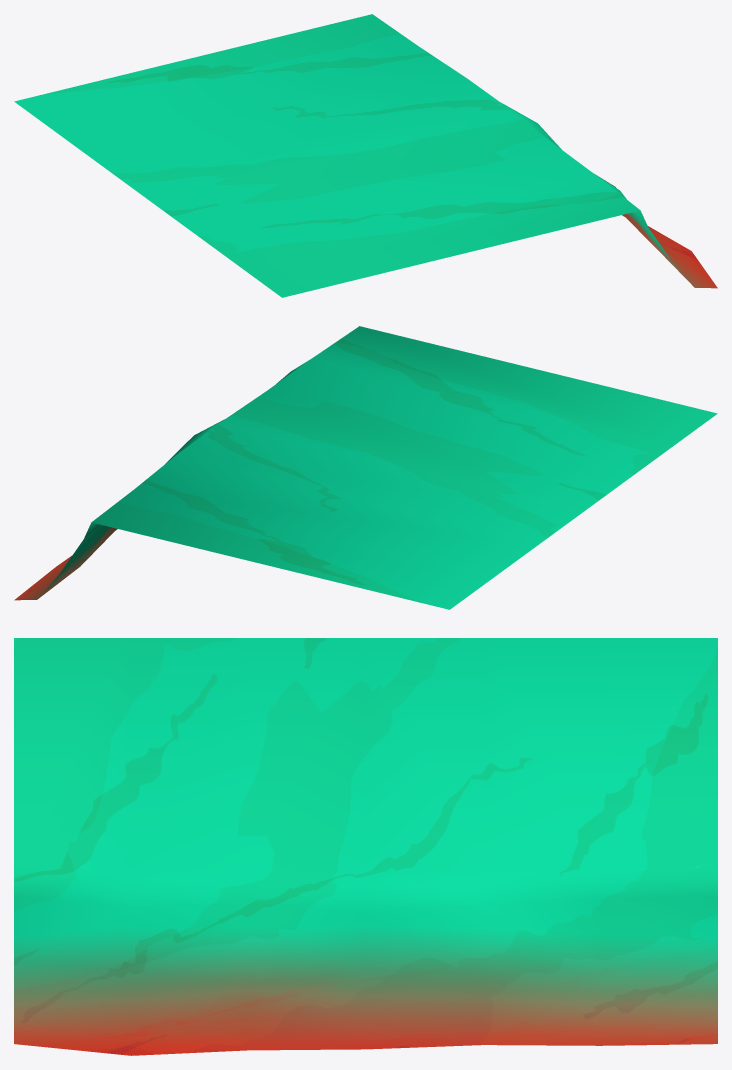
The model's file is SM_Border_Straight.fbx.
3 views of the same model, one above another, from view 1: azimuth 30°, elevation 25°; view 2: azimuth 150°, elevation 25°; view 3: azimuth 270°, elevation 25° (orthographic). The views are drawn at different scales.
Parts seen in each view (by area): view 1: Plane; view 2: Plane; view 3: Plane.
Boxes of the visible parts, x1,y1,x2,y2 form: Plane: [14, 14, 717, 297]; Plane: [14, 326, 717, 609]; Plane: [14, 638, 717, 1055].
Bounding box in the file's own units: 9.77 × 1.99 × 10.
Materials: 1 (1 with a texture image).
